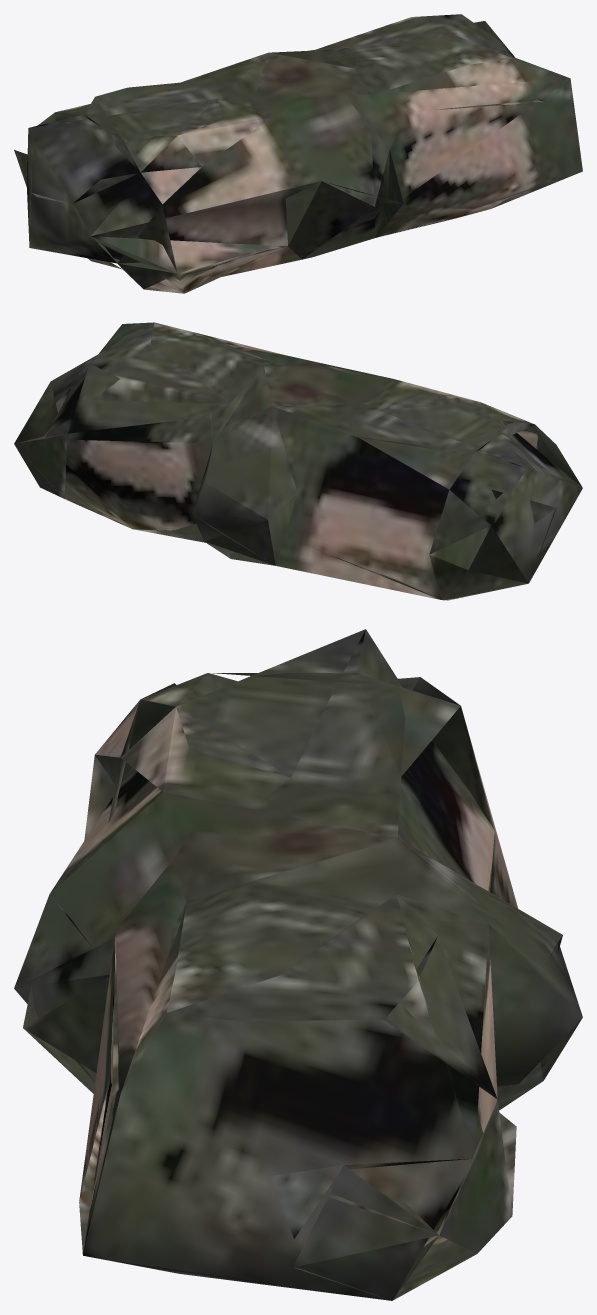
Rendered from deploy_cover_850046286_lod1.glb.
3 renders of one model, top to bottom at view 1: azimuth 30°, elevation 25°; view 2: azimuth 150°, elevation 25°; view 3: azimuth 270°, elevation 25°, orthographic. The views are drawn at different scales.
Bounding box in the file's own units: 2.75 × 0.7888 × 1.38.
1 material, 1 textured.
